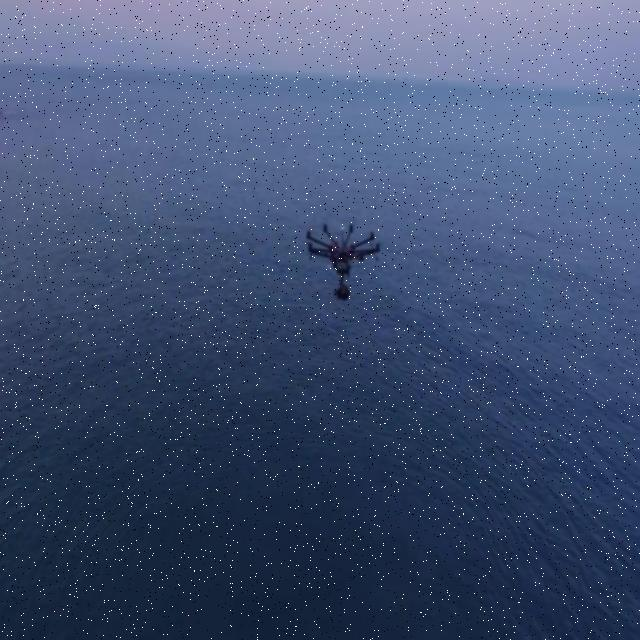UAV: (306, 224, 381, 301)
